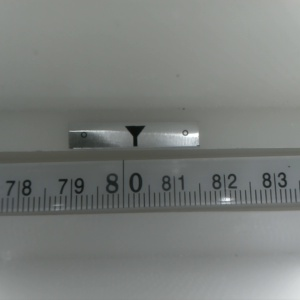0: (128, 172, 142, 192)
1: (178, 175, 184, 190)
2: (227, 173, 236, 189)
3: (277, 172, 287, 188)
7: (4, 180, 15, 196), (57, 179, 68, 194)
8: (106, 173, 119, 193), (21, 179, 32, 196), (261, 172, 271, 188), (160, 175, 170, 190), (211, 174, 221, 189)
9: (74, 178, 84, 194)
finger: (123, 126, 146, 147)
